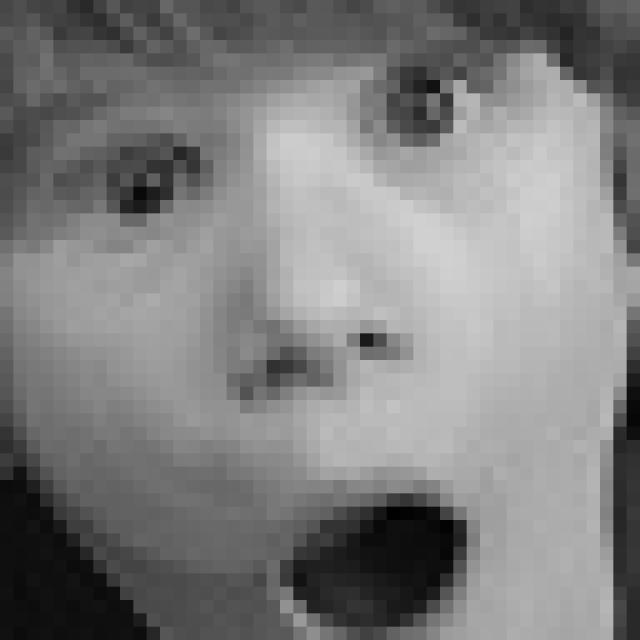surprise: (19, 0, 534, 640)
